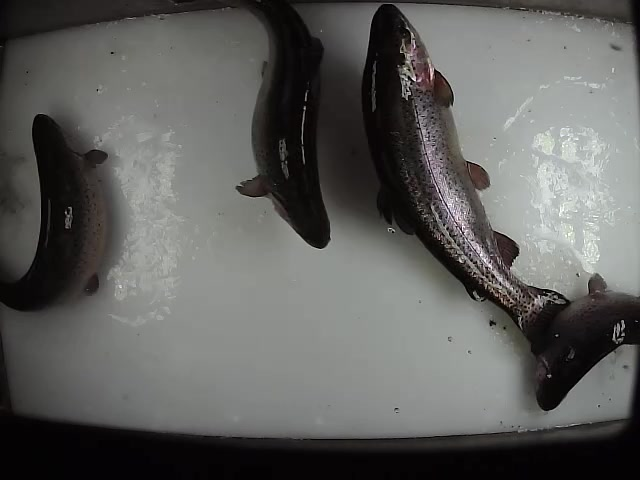fish: (358, 1, 572, 344)
